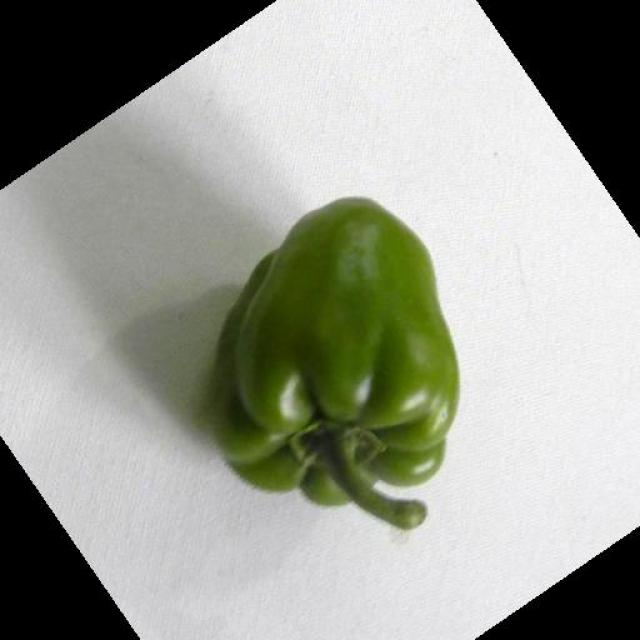Fresh_Capsicum: (217, 165, 479, 538)
